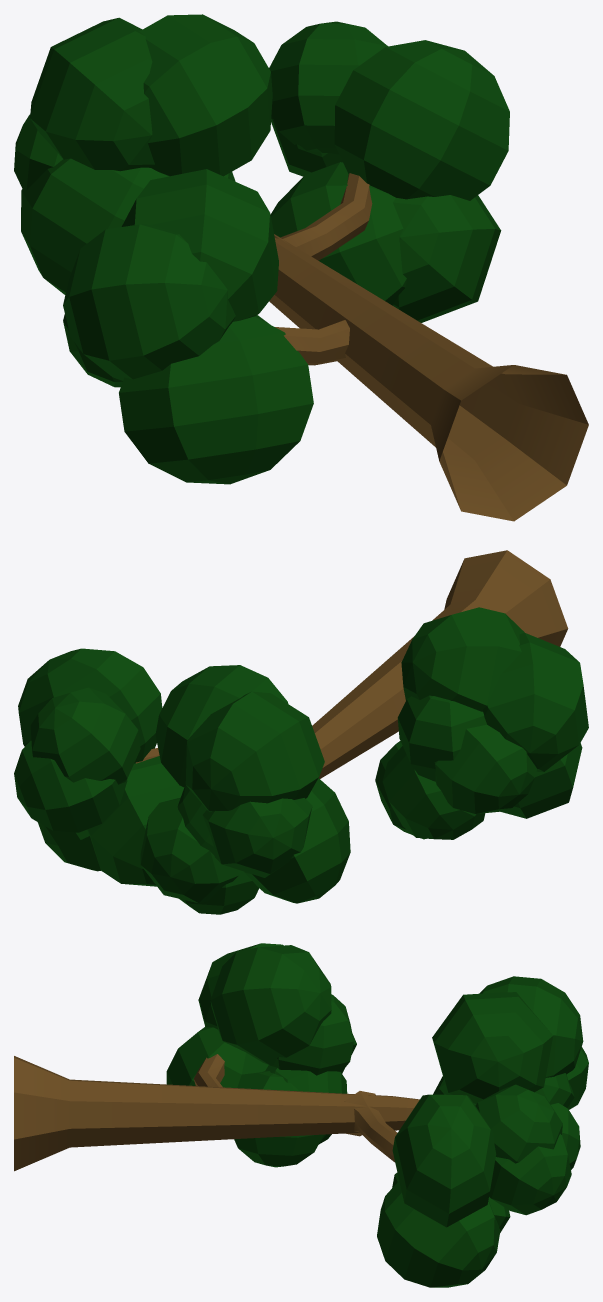
The model's file is Tree03.fbx.
3 views of the same model, one above another, from view 1: azimuth 30°, elevation 25°; view 2: azimuth 150°, elevation 25°; view 3: azimuth 270°, elevation 25° (orthographic). The views are drawn at different scales.
Visible parts, largest first — view 1: Tree03; view 2: Tree03; view 3: Tree03.
Boxes of the visible parts, x1=… form: Tree03: x1=14, y1=14, x2=588, y2=521; Tree03: x1=14, y1=550, x2=588, y2=914; Tree03: x1=14, y1=943, x2=588, y2=1287.
Bounding box in the file's own units: 4.68 × 2.48 × 5.83.
